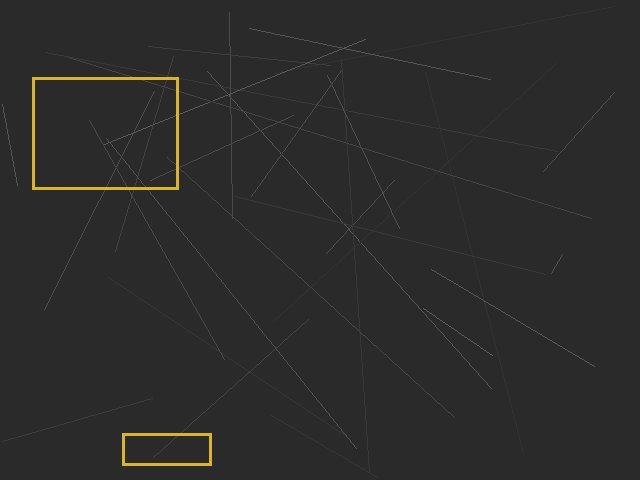D00: (32, 77, 178, 189), (122, 433, 211, 465)
